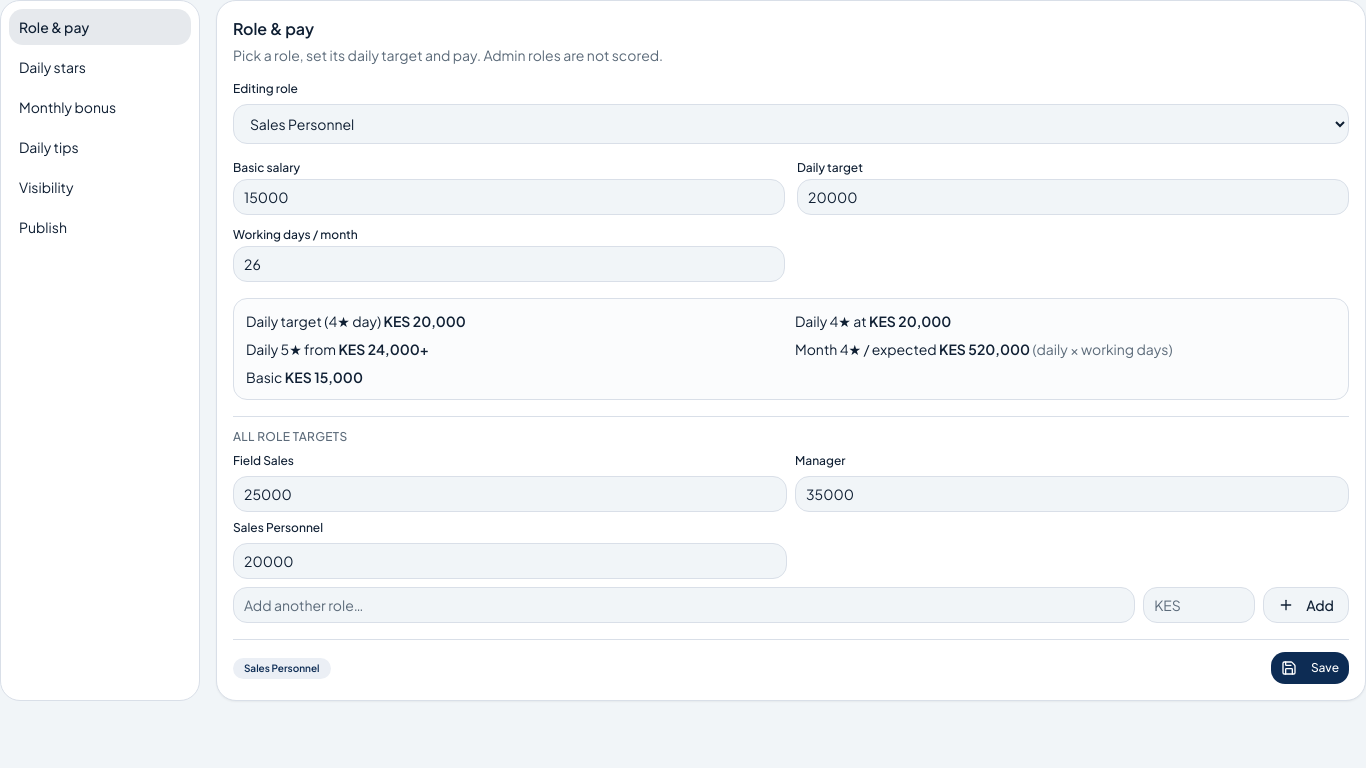
Test: AppraisalTemplateForm › preview scales 4★ daily and month expected to the selected role target
Select "Manager" in the dropdown labelled "Editing role" at (791, 124), box [233,104,1349,144]
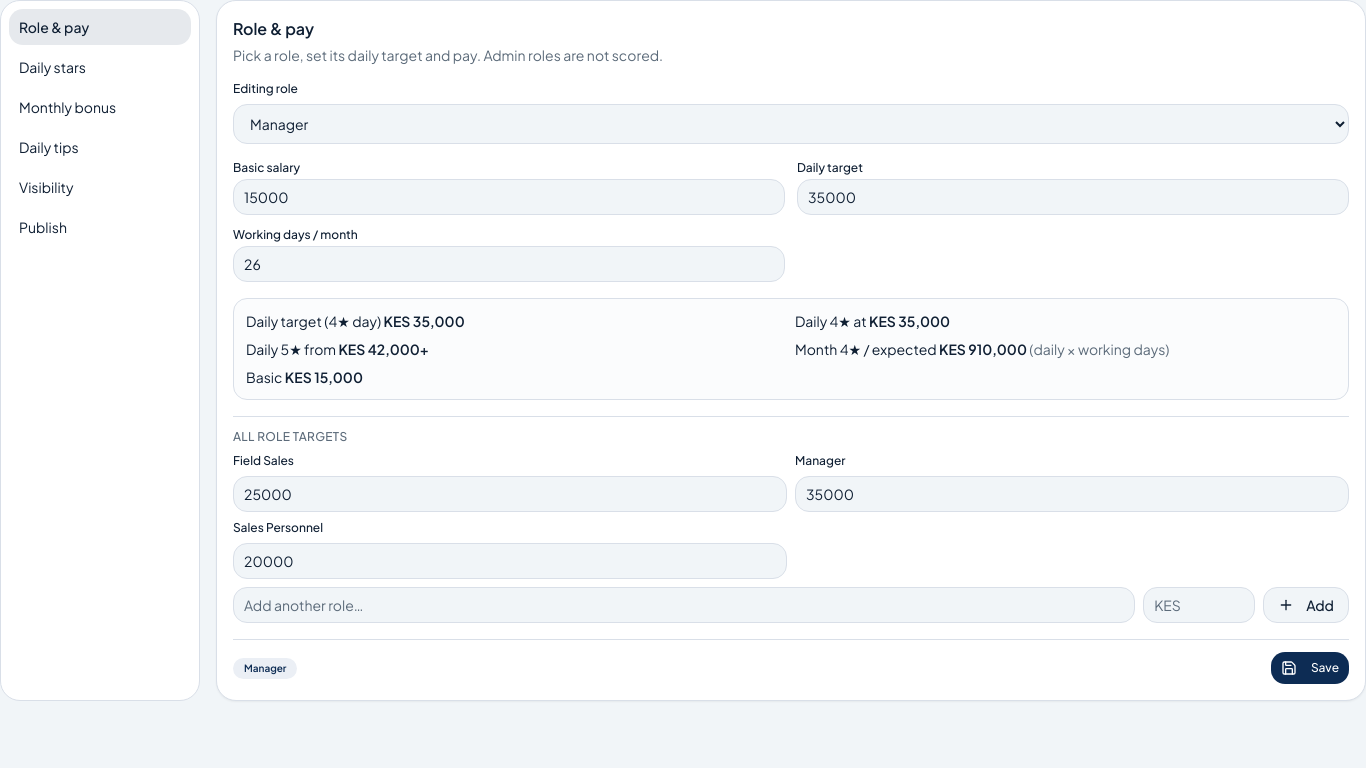
Check: the element with test id "appraisal-rules-preview" shows "Daily target (4★ day)", box [246,312,384,330]
Check: the element with test id "appraisal-rules-preview" shows "35,000", box [384,312,465,330]
Check: the element with test id "appraisal-rules-preview" shows "910,000", box [939,340,1027,358]
